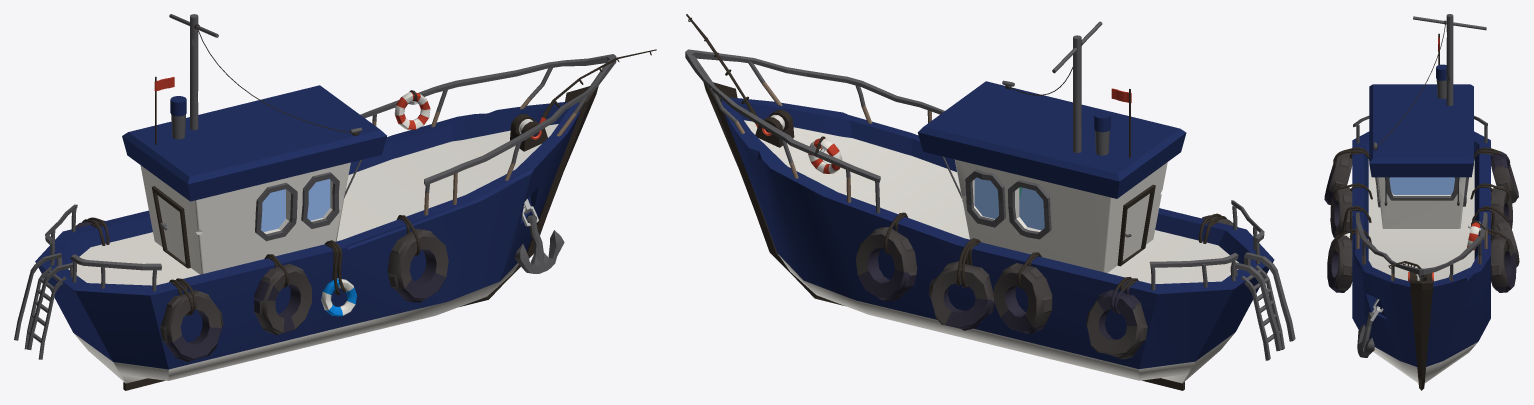
File: boat.glb
3 views of the same model, side by side, from view 1: azimuth 30°, elevation 25°; view 2: azimuth 150°, elevation 25°; view 3: azimuth 270°, elevation 25° (orthographic). The views are drawn at different scales.
Visible parts, largest first — view 1: polySurface208, pCube126, polySurface202, polySurface203, pCylinder427, polySurface205, pCube114, polySurface206, pCube124, pCylinder460, pCylinder513, polySurface207 (+5 smaller); view 2: polySurface208, pCube126, pCylinder427, polySurface202, polySurface203, polySurface205, pCube115, polySurface206, pCylinder460, pCylinder513, polySurface204, polySurface207 (+4 smaller); view 3: polySurface208, pCube126, pCylinder427, polySurface202, polySurface203, polySurface206, polySurface205, pCylinder513, pCube124, pCube123, pCylinder460, pCylinder499 (+2 smaller).
Boxes of the visible parts, bbox=[...] form: polySurface208: bbox=[35, 102, 579, 383]; pCube126: bbox=[122, 85, 386, 201]; polySurface202: bbox=[68, 124, 558, 285]; polySurface203: bbox=[140, 162, 350, 274]; pCylinder427: bbox=[75, 215, 448, 361]; polySurface205: bbox=[360, 54, 616, 185]; pCube114: bbox=[255, 172, 339, 241]; polySurface206: bbox=[123, 86, 598, 390]; pCube124: bbox=[515, 215, 564, 273]; pCylinder460: bbox=[372, 60, 608, 215]; pCylinder513: bbox=[190, 14, 198, 130]; polySurface207: bbox=[45, 204, 161, 270]; polySurface208: bbox=[721, 97, 1274, 383]; pCube126: bbox=[917, 81, 1186, 198]; pCylinder427: bbox=[855, 212, 1233, 359]; polySurface202: bbox=[744, 120, 1238, 283]; polySurface203: bbox=[954, 159, 1167, 272]; polySurface205: bbox=[685, 49, 944, 182]; pCube115: bbox=[965, 169, 1051, 239]; polySurface206: bbox=[703, 82, 1184, 390]; pCylinder460: bbox=[693, 55, 931, 213]; pCylinder513: bbox=[1073, 35, 1081, 153]; polySurface204: bbox=[1117, 184, 1155, 266]; polySurface207: bbox=[1149, 200, 1264, 267]; polySurface208: bbox=[1352, 131, 1490, 383]; pCube126: bbox=[1369, 84, 1473, 177]; pCylinder427: bbox=[1324, 147, 1519, 292]; polySurface202: bbox=[1368, 159, 1474, 281]; polySurface203: bbox=[1377, 177, 1465, 228]; polySurface206: bbox=[1410, 280, 1433, 390]; polySurface205: bbox=[1356, 212, 1487, 274]; pCylinder513: bbox=[1446, 14, 1453, 105]; pCube124: bbox=[1357, 312, 1374, 357]; pCube123: bbox=[1385, 177, 1459, 200]; pCylinder460: bbox=[1356, 215, 1487, 282]; pCylinder499: bbox=[1413, 16, 1486, 30].
Bounding box in the file's own units: 156 × 82.48 × 54.11.
